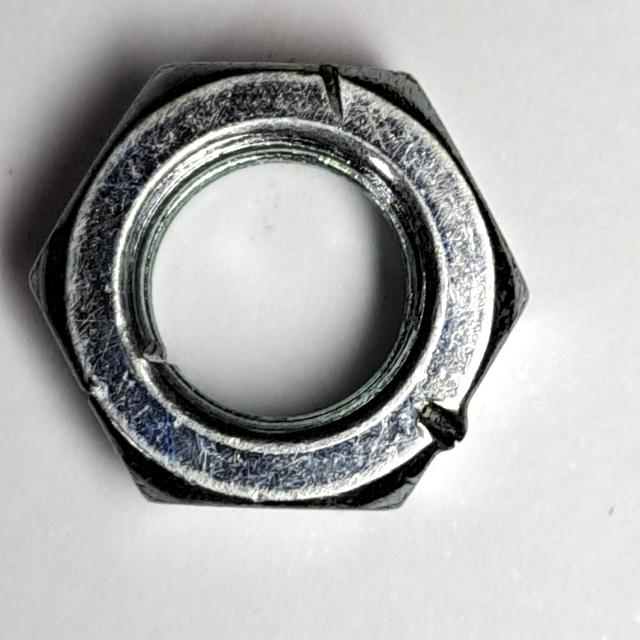Scratches: (13, 44, 549, 533)
